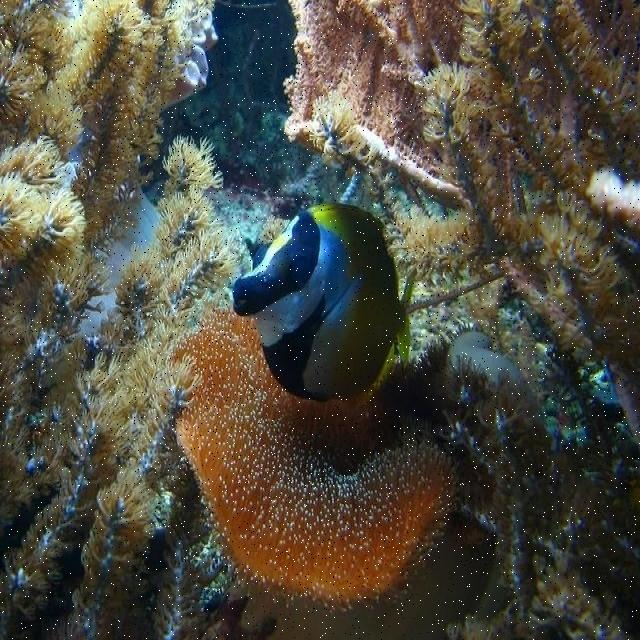fish: (232, 203, 416, 402)
reefs: (2, 2, 276, 637), (311, 1, 638, 403), (170, 308, 462, 592), (284, 0, 465, 167)
